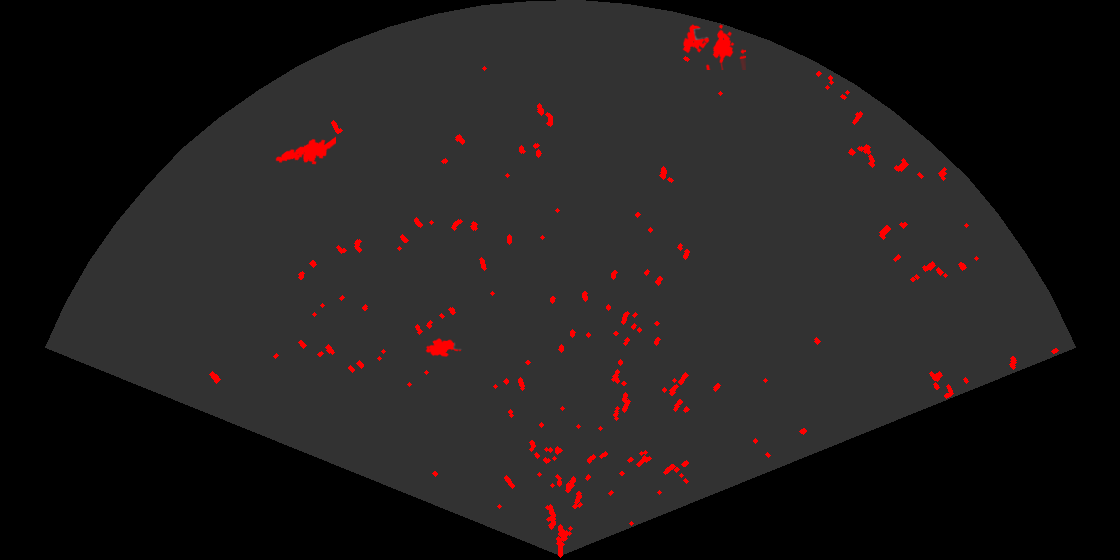AUV: (424, 336, 463, 358)
cage: (681, 23, 746, 70)
frogman: (274, 135, 336, 166)
